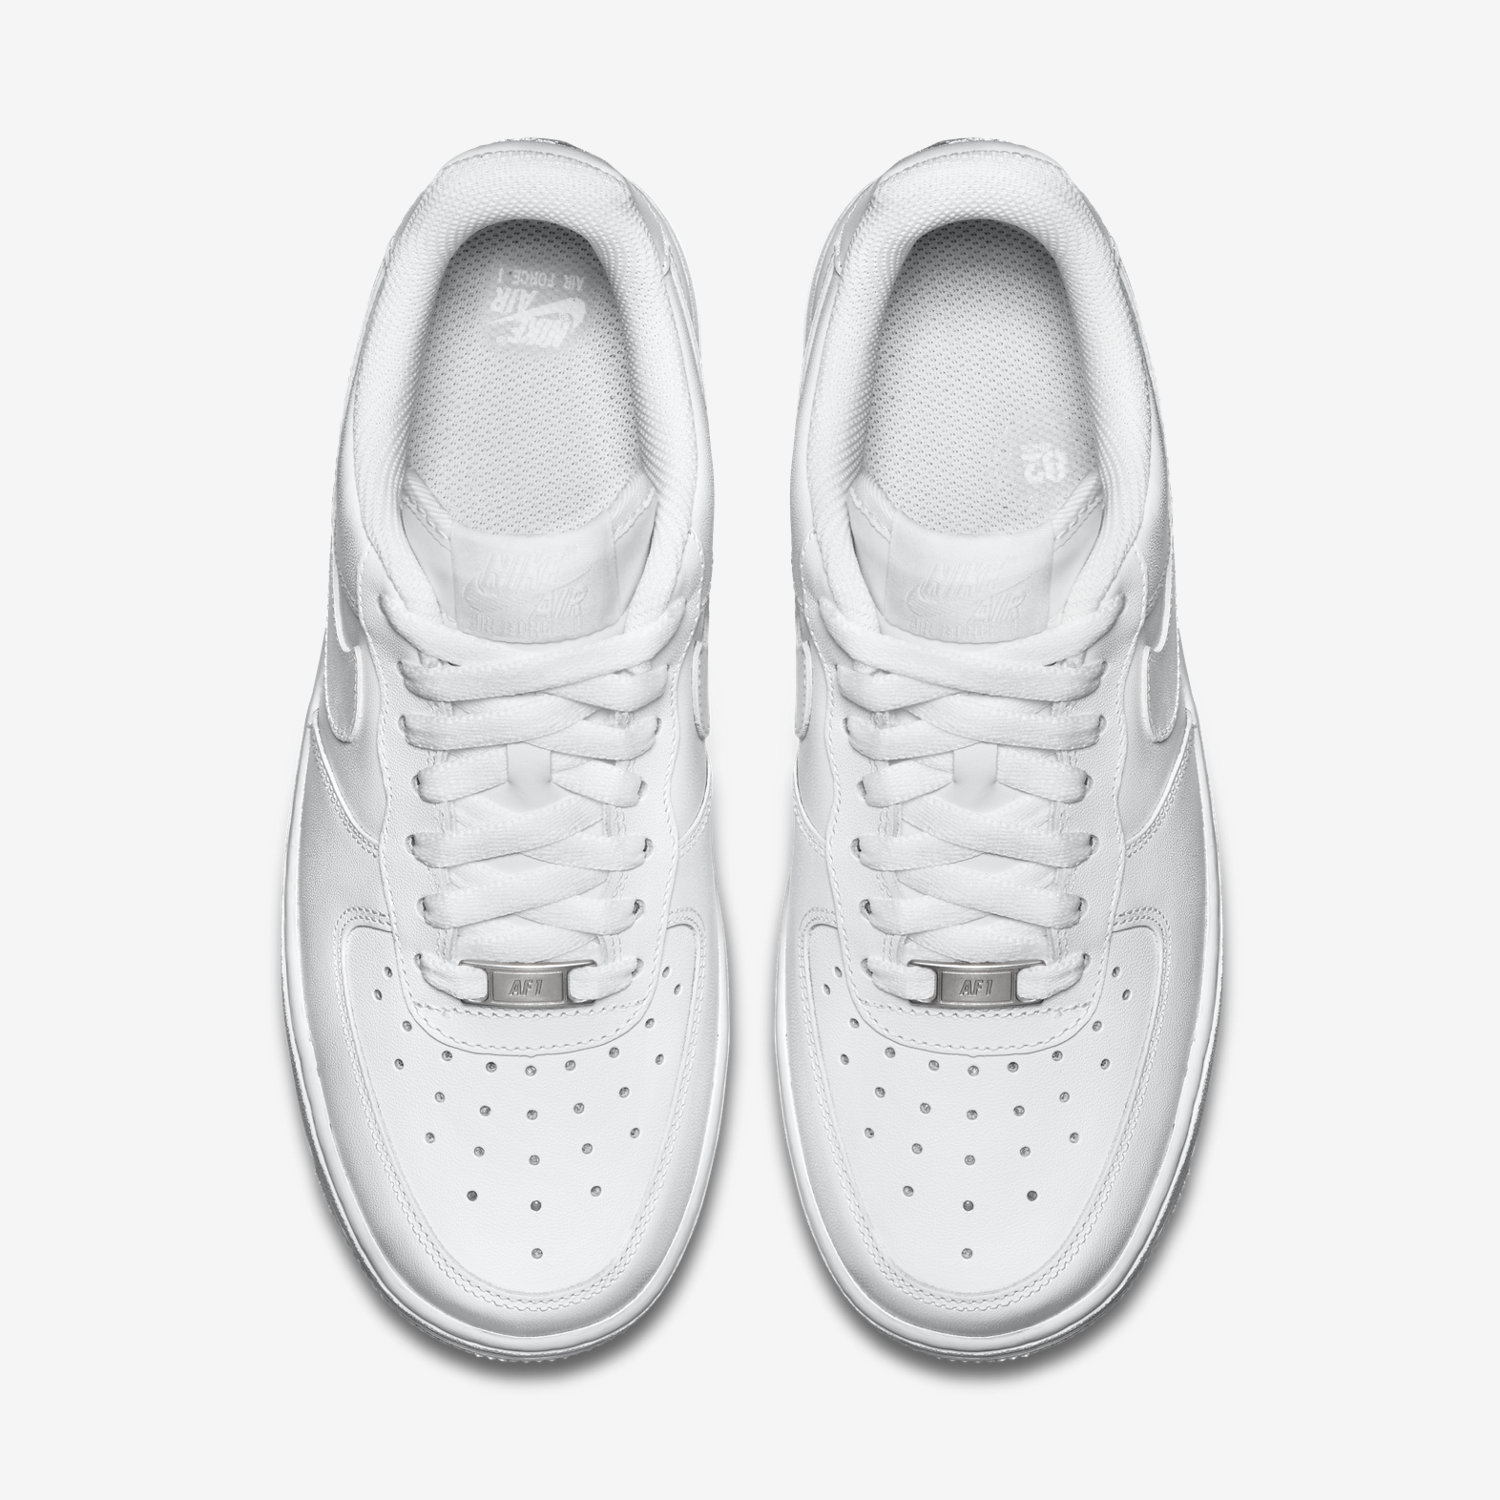shoes: (273, 137, 746, 1397), (762, 135, 1232, 1379)
